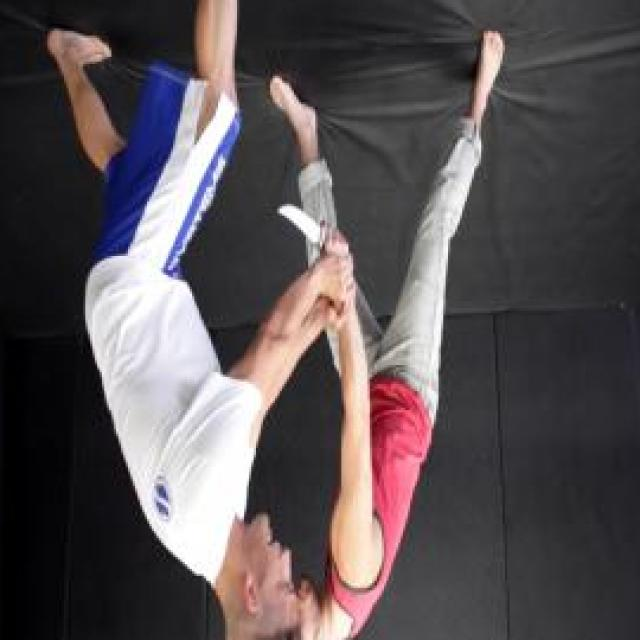knife: (274, 198, 356, 258)
